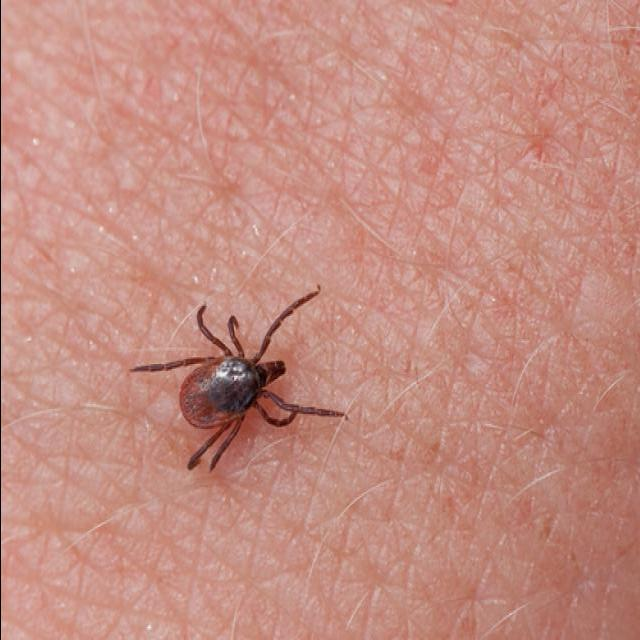Ixodes Ricinus-F: (129, 288, 344, 475)
